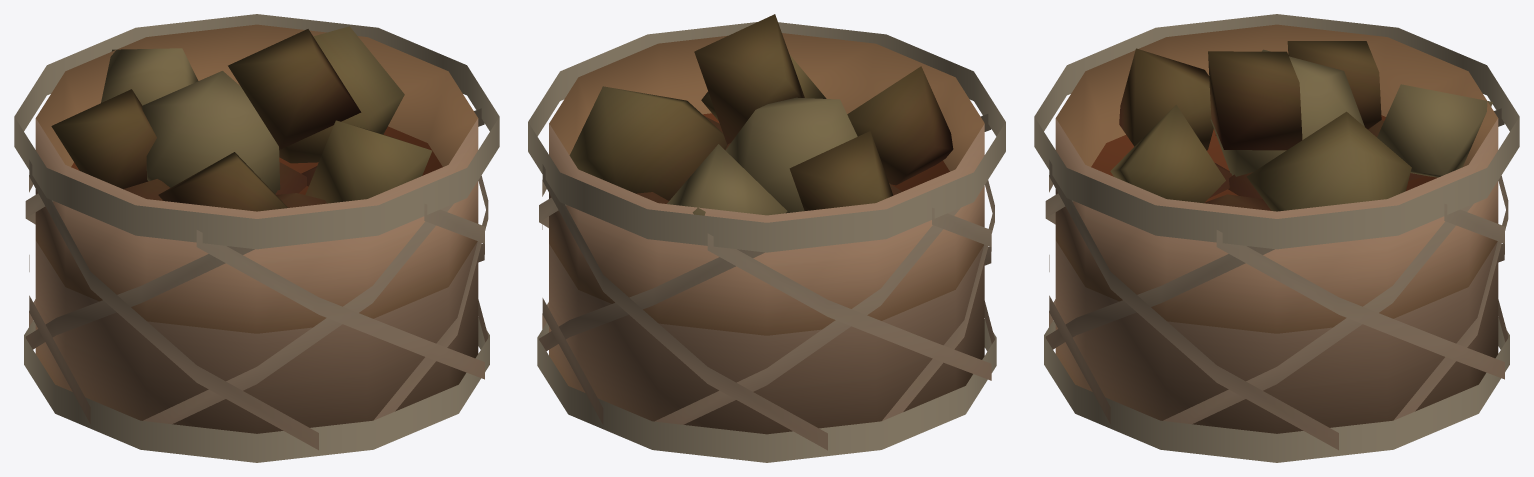
The model's file is SM_VegetableBasket_01.fbx.
The picture shows the model from 3 angles, left to right: view 1: azimuth 30°, elevation 25°; view 2: azimuth 150°, elevation 25°; view 3: azimuth 270°, elevation 25°; orthographic projection.
Parts seen in each view (by area): view 1: SM_VegetableBasket_01_LOD0; view 2: SM_VegetableBasket_01_LOD0; view 3: SM_VegetableBasket_01_LOD0.
Part boxes in pixels (bbox=[...]): SM_VegetableBasket_01_LOD0: bbox=[14, 14, 499, 462]; SM_VegetableBasket_01_LOD0: bbox=[528, 14, 1005, 462]; SM_VegetableBasket_01_LOD0: bbox=[1034, 14, 1519, 462].
Size of what is drawn, in the model's own units: 0.6781 by 0.5236 by 0.6781.
